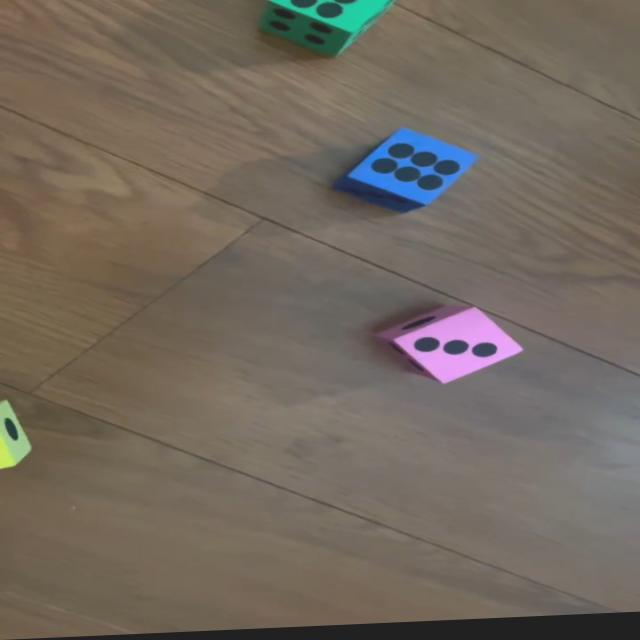blue_block: (331, 129, 481, 217)
